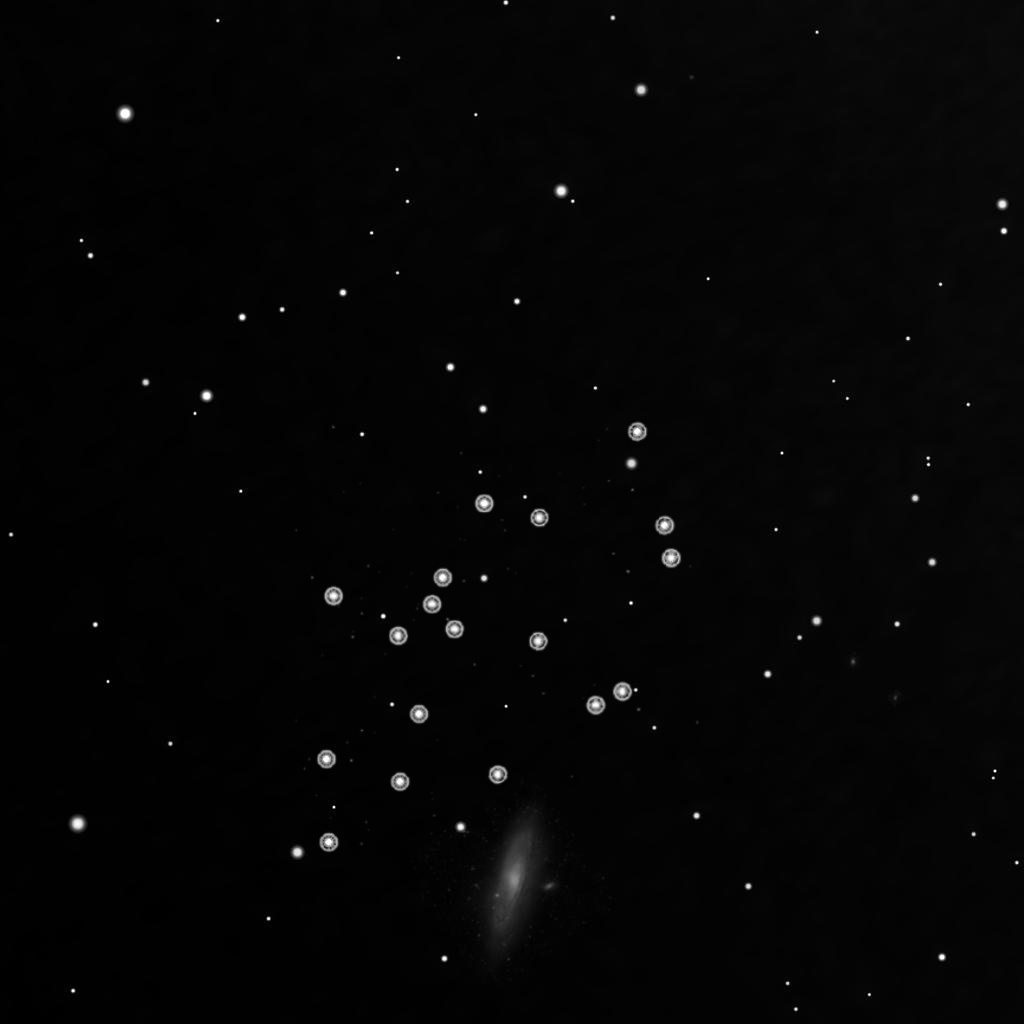canis_major: (383, 492, 552, 651)
